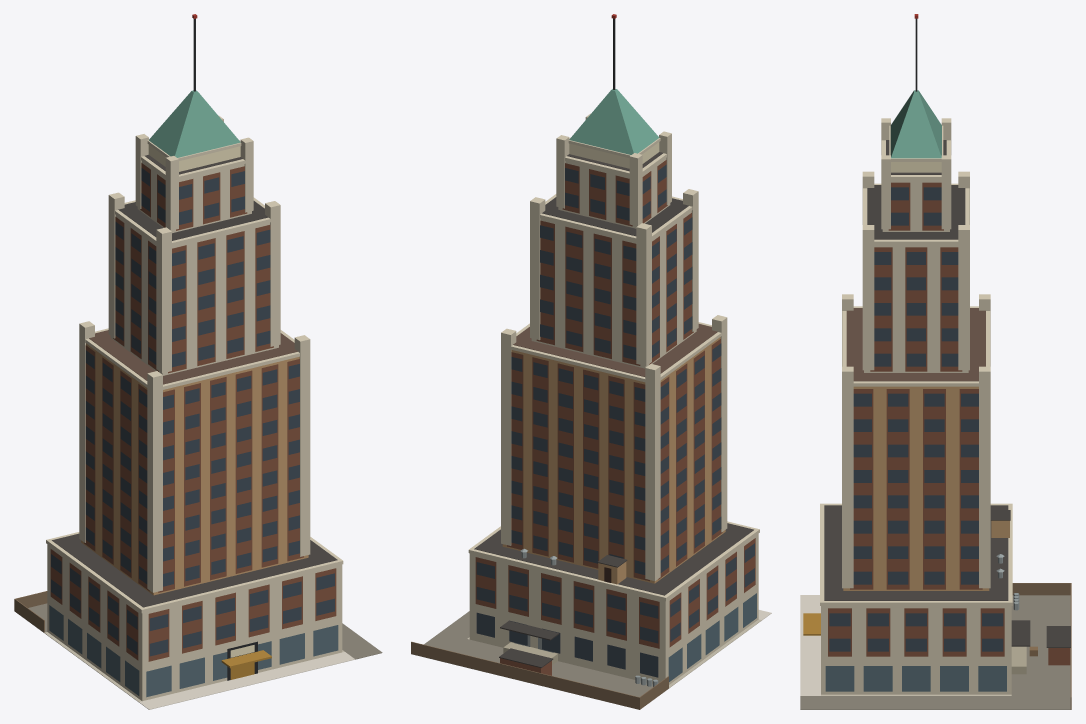
Rendered from glasstower_c.glb.
The picture shows the model from 3 angles, left to right: view 1: azimuth 30°, elevation 25°; view 2: azimuth 150°, elevation 25°; view 3: azimuth 270°, elevation 25°; orthographic projection. The views are drawn at different scales.
Parts seen in each view (by area): view 1: glasstower_c; view 2: glasstower_c; view 3: glasstower_c.
Boxes of the visible parts, x1,y1,x2,y2 form: glasstower_c: [14, 14, 382, 709]; glasstower_c: [411, 14, 771, 709]; glasstower_c: [800, 14, 1071, 709].
Bounding box in the file's own units: 30 × 77.06 × 30.
